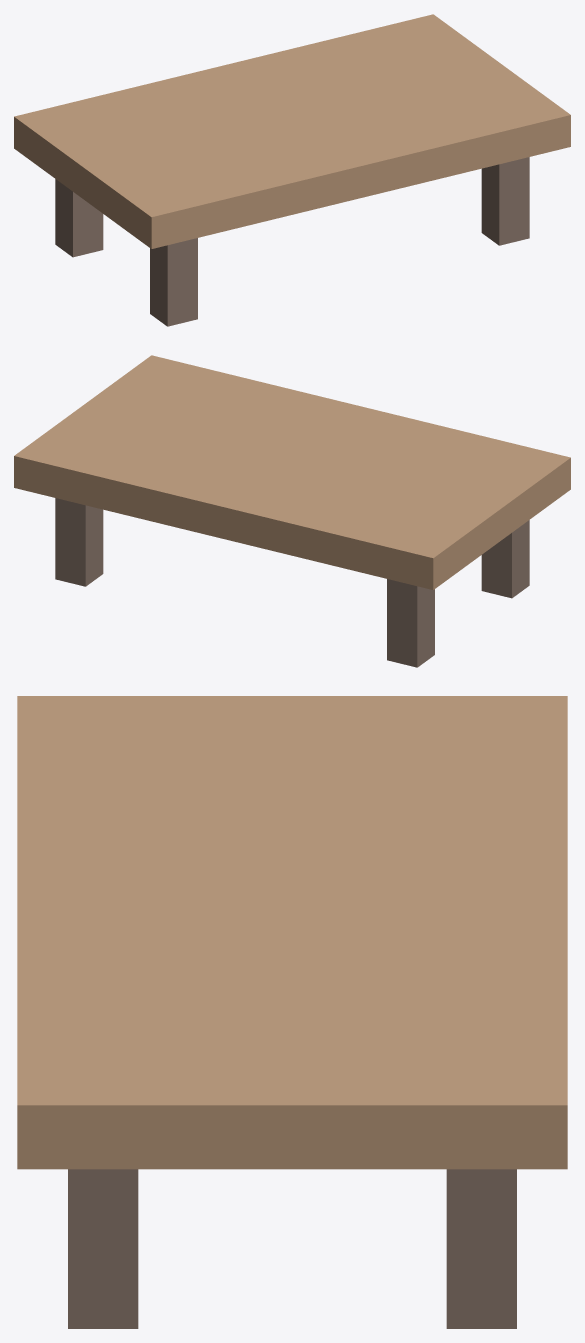
File: lounge-coffee-table.glb
3 views of the same model, one above another, from view 1: azimuth 30°, elevation 25°; view 2: azimuth 150°, elevation 25°; view 3: azimuth 270°, elevation 25° (orthographic). The views are drawn at different scales.
Visible parts, largest first — view 1: coffee-table-part-0, coffee-table-part-4, coffee-table-part-3, coffee-table-part-1; view 2: coffee-table-part-0, coffee-table-part-2, coffee-table-part-1, coffee-table-part-3; view 3: coffee-table-part-0, coffee-table-part-2, coffee-table-part-4.
Boxes of the visible parts, x1,y1,x2,y2 form: coffee-table-part-0: (14, 14, 570, 248); coffee-table-part-4: (481, 157, 529, 245); coffee-table-part-3: (150, 238, 197, 326); coffee-table-part-1: (55, 179, 103, 257); coffee-table-part-0: (14, 355, 570, 589); coffee-table-part-2: (55, 498, 103, 586); coffee-table-part-1: (387, 579, 434, 667); coffee-table-part-3: (481, 520, 529, 598); coffee-table-part-0: (17, 696, 567, 1169); coffee-table-part-2: (446, 1169, 516, 1328); coffee-table-part-4: (68, 1169, 138, 1328).
Size of the model in its own units: 2.2 by 0.63 by 1.25.
